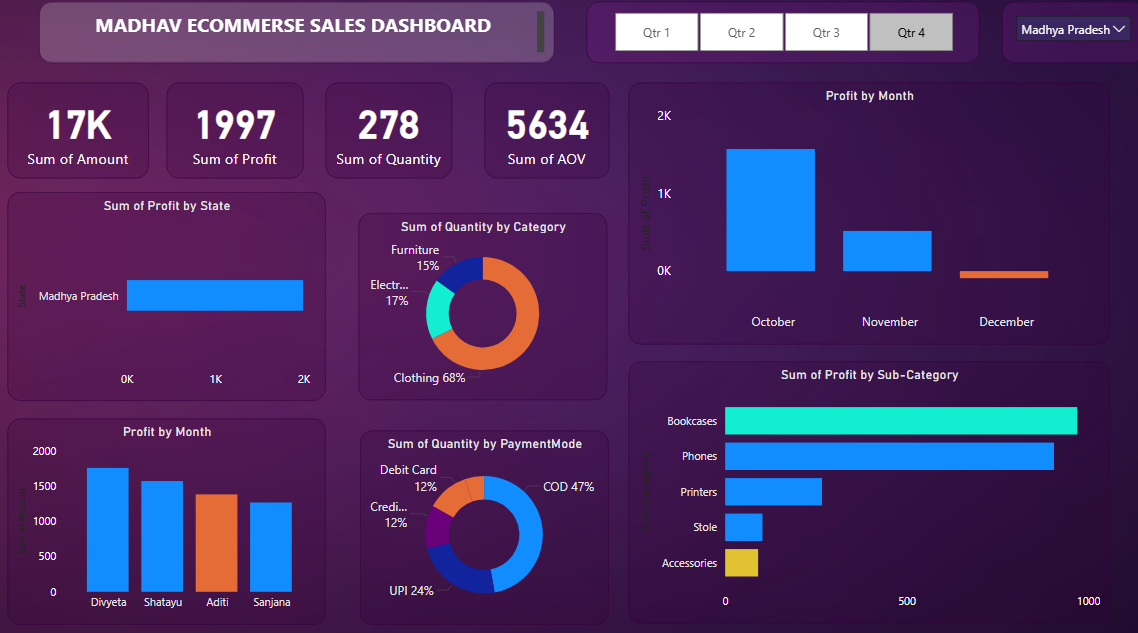

Layout of this report page (visuals, bound fields, positions):
{"tool":"powerbi","page":{"name":"Page 1","canvas":[1280,720],"ordinal":0},"visuals":[{"type":"textbox","box":[60.2,11.4,569.3,68.3],"z":0},{"type":"columnChart","title":"Profit by Month","fields":{"Category":["Orders.Order Date.Variation.Date Hierarchy.Month"],"Y":["Details.Profit"]},"box":[710.8,100.8,531.9,289.5],"z":1000},{"type":"barChart","fields":{"Category":["Details.Sub-Category"],"Y":["Details.Profit"]},"box":[710.8,409.9,531.9,289.5],"z":2000},{"type":"donutChart","fields":{"Category":["Details.Category"],"Y":["Details.Quantity"]},"box":[413.1,245.6,274.9,206.6],"z":3000},{"type":"donutChart","fields":{"Y":["Details.Quantity"],"Category":["Details.PaymentMode"]},"box":[414.8,484.7,274.9,214.7],"z":4000},{"type":"card","fields":{"Values":["Details.Amount"]},"box":[24.4,100.8,156.1,105.7],"z":5000},{"type":"card","fields":{"Values":["Details.Profit"]},"box":[200.1,100.8,151.3,105.7],"z":6000},{"type":"card","fields":{"Values":["Details.Quantity"]},"box":[375.7,100.8,139.9,105.7],"z":7000},{"type":"card","fields":{"Values":["Details.AOV"]},"box":[551.4,100.8,138.3,105.7],"z":8000},{"type":"barChart","fields":{"Y":["Details.Profit"],"Category":["Orders.State"]},"box":[24.4,221.2,351.3,231],"z":9000},{"type":"slicer","fields":{"Values":["Orders.Order Date.Variation.Date Hierarchy.Quarter"]},"box":[663.6,11.4,434.3,68.3],"z":11000},{"type":"slicer","fields":{"Values":["Orders.State"]},"box":[1123.1,11.6,157.4,67.9],"z":12000},{"type":"columnChart","title":"Profit by Month","fields":{"Y":["Details.Amount"],"Category":["Orders.CustomerName"]},"box":[24.4,471.7,351.3,227.7],"z":12001}]}

Visuals, with their boxes in screenshot pixels (x1, y1, x2, y2), scaled from the page's 1280x720 canvas onto the 1138x633 screenshot:
textbox: [54,10,560,70]
"Profit by Month" columnChart: [632,89,1105,343]
barChart - Details.Sub-Category x Details.Profit: [632,360,1105,615]
donutChart - Details.Category x Details.Quantity: [367,216,612,398]
donutChart - Details.Quantity x Details.PaymentMode: [369,426,613,615]
card - Details.Amount: [22,89,160,182]
card - Details.Profit: [178,89,312,182]
card - Details.Quantity: [334,89,458,182]
card - Details.AOV: [490,89,613,182]
barChart - Details.Profit x Orders.State: [22,194,334,398]
slicer - Orders.Order Date.Variation.Date Hierarchy.Quarter: [590,10,976,70]
slicer - Orders.State: [999,10,1137,70]
"Profit by Month" columnChart: [22,415,334,615]
